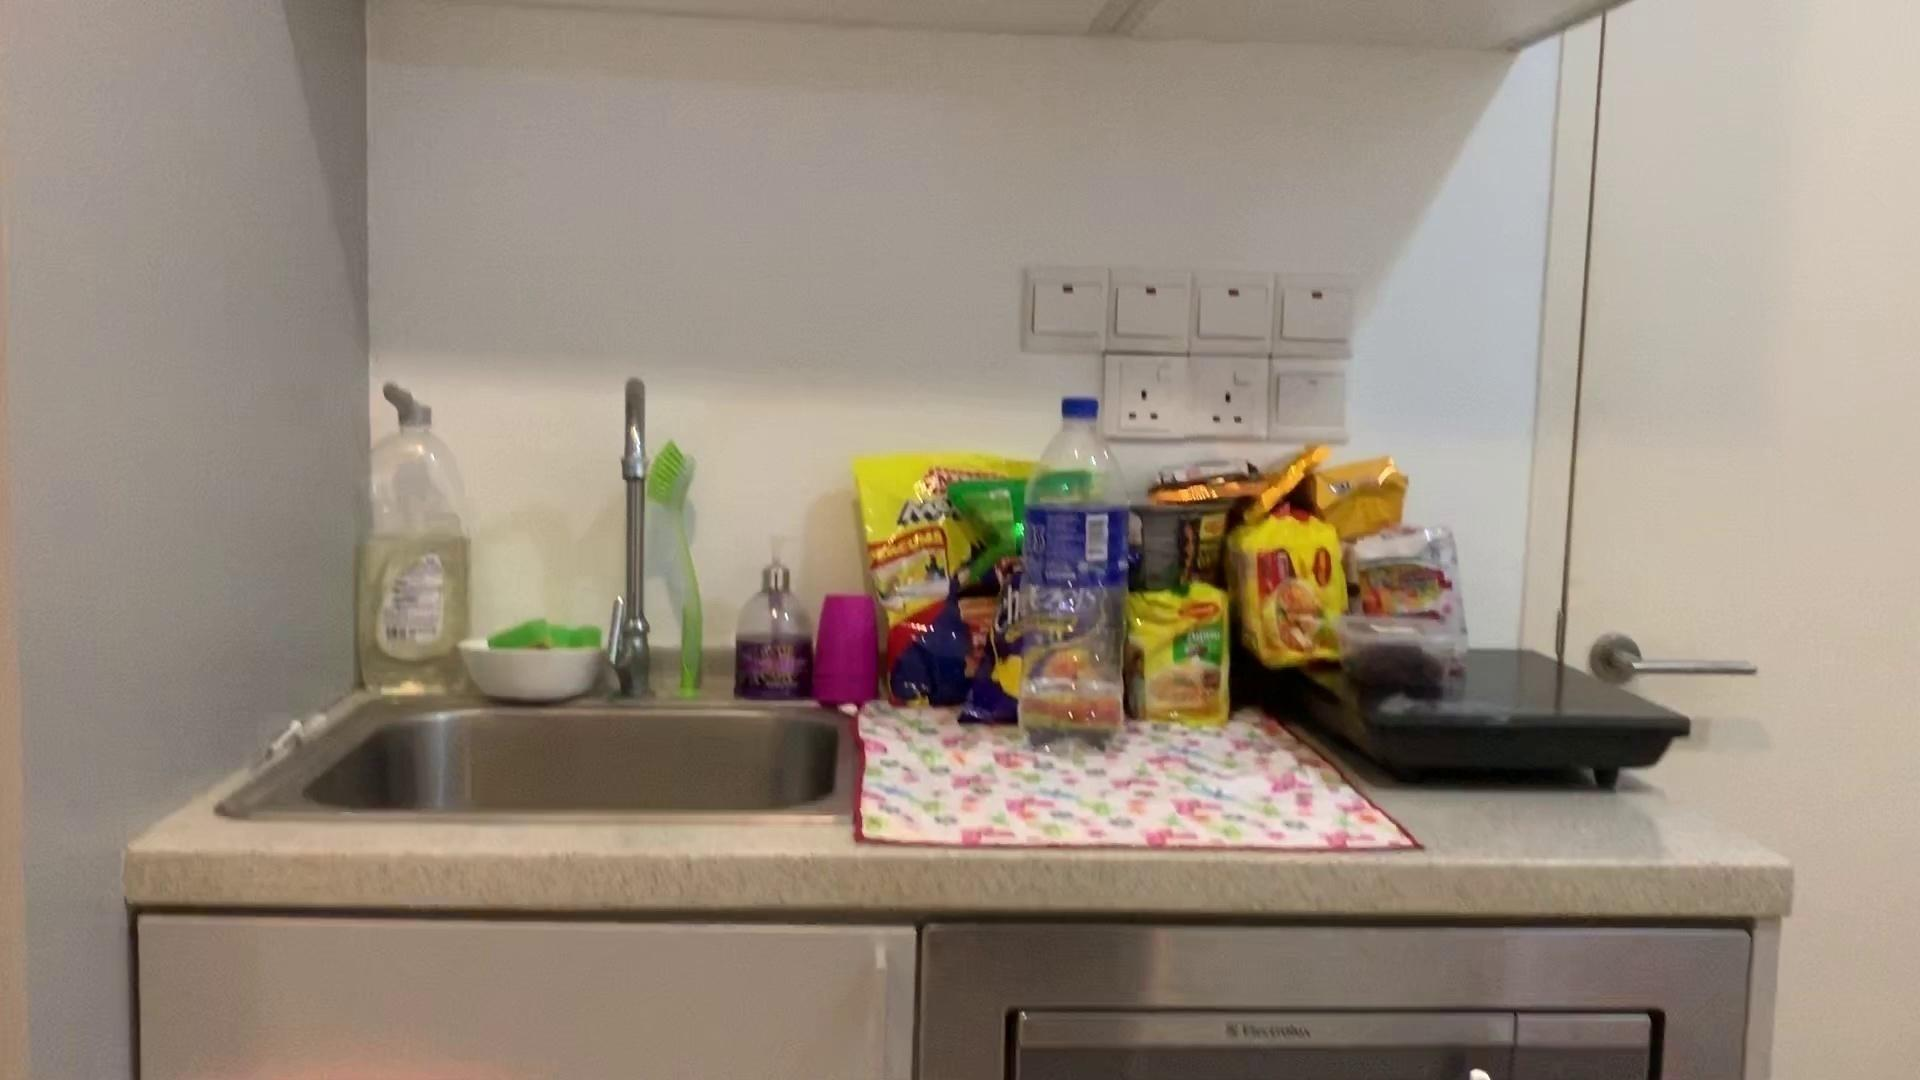handle: (1594, 637, 1764, 690)
